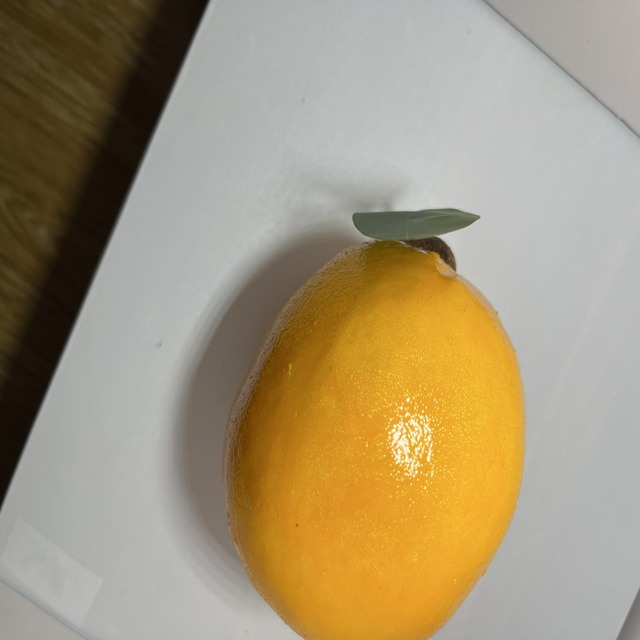Cam vang: (214, 216, 538, 640)
